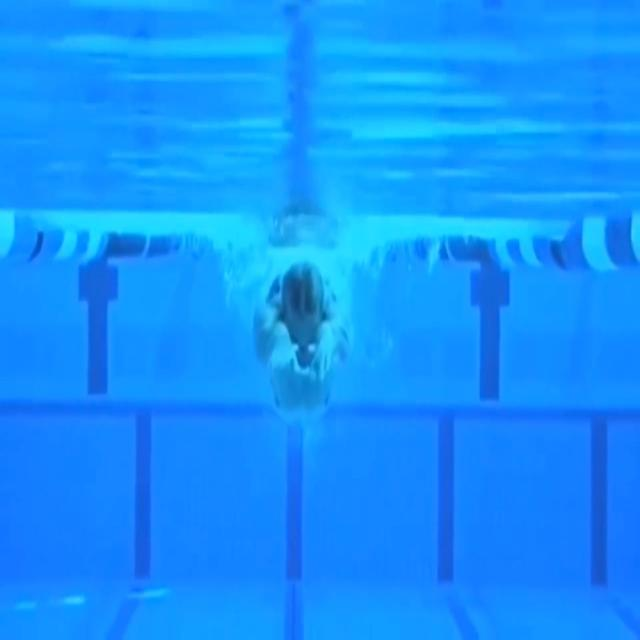Swimming: (252, 257, 350, 418)
